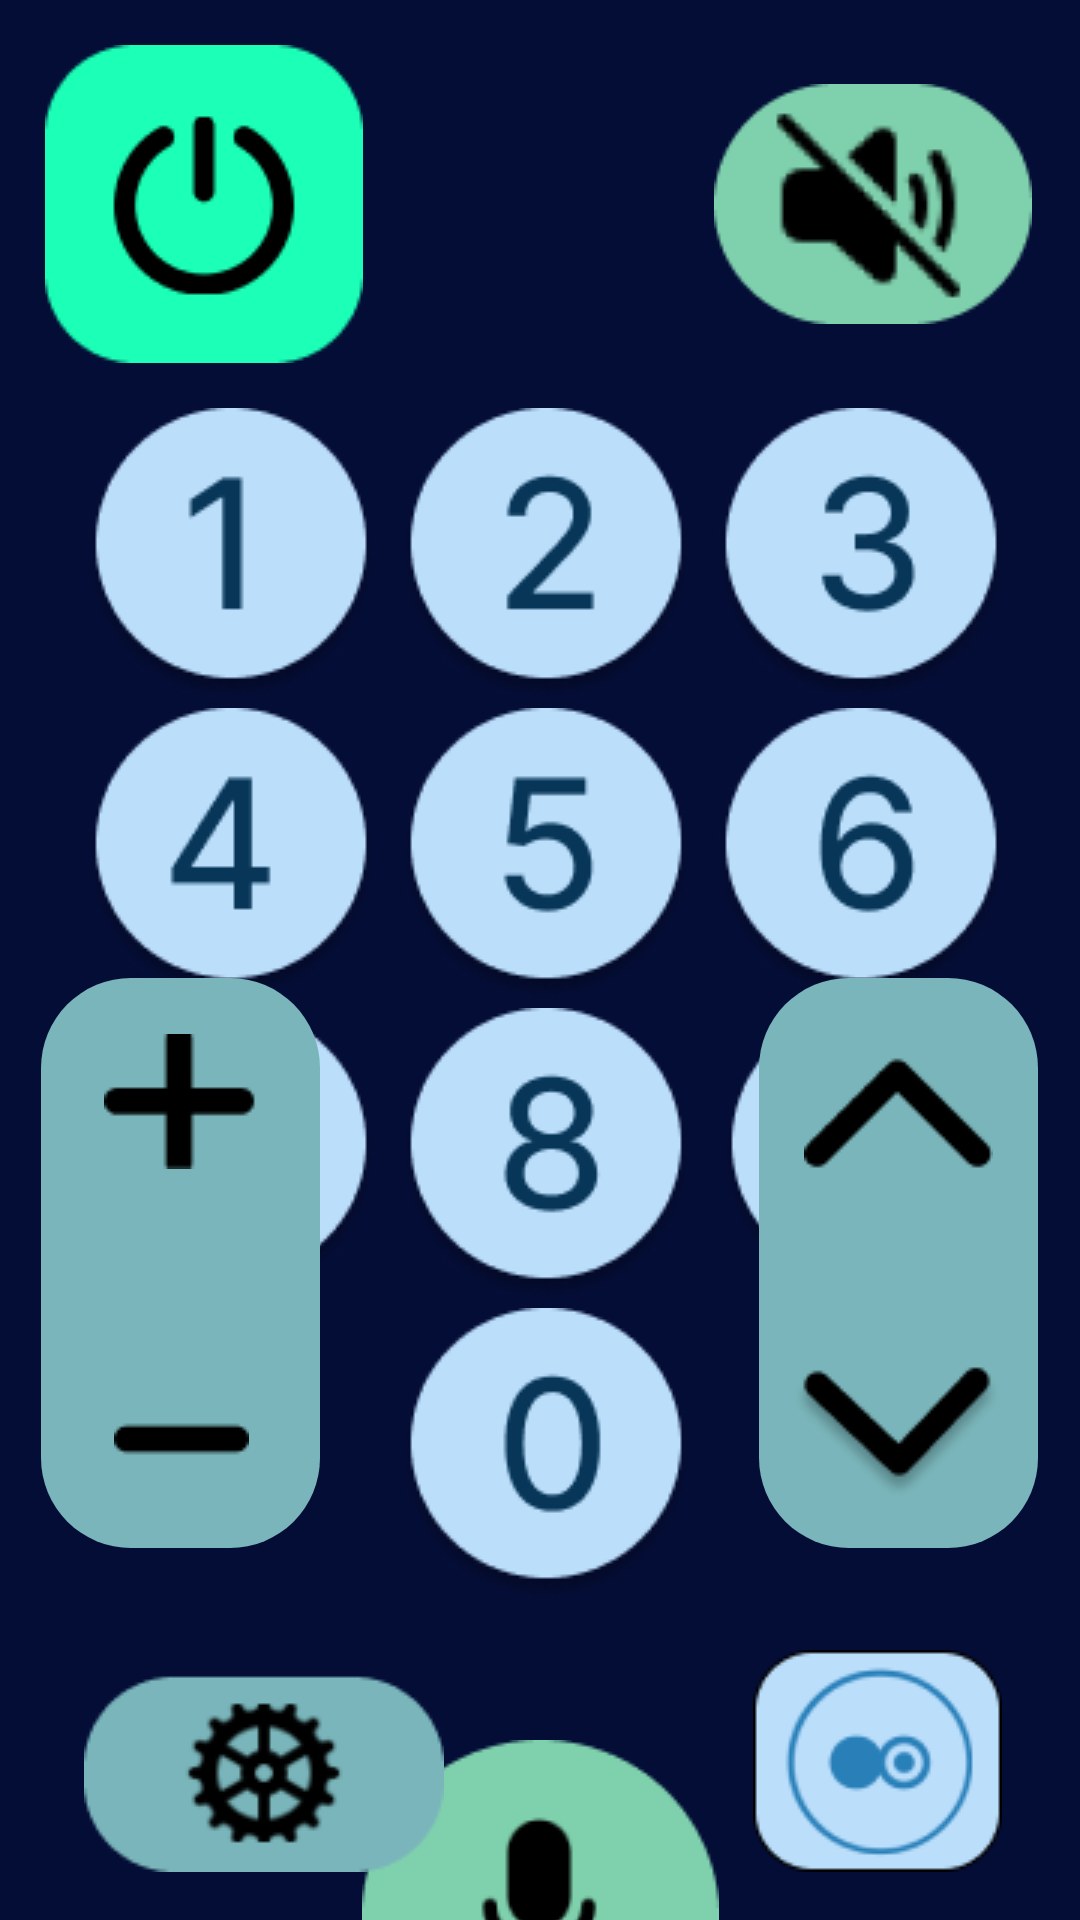

Named icons in this screenshot (1080 x 1920) and their bounding boxes, box=[x1, y1, x2, y2]:
arrow down mini: box=[803, 1367, 991, 1486]
arrow up mini: box=[804, 1058, 993, 1168]
minus mini: box=[114, 1424, 249, 1454]
mode: box=[753, 1650, 1002, 1872]
mute: box=[714, 84, 1032, 324]
plus mini: box=[104, 1034, 255, 1169]
settings: box=[84, 1676, 444, 1872]
